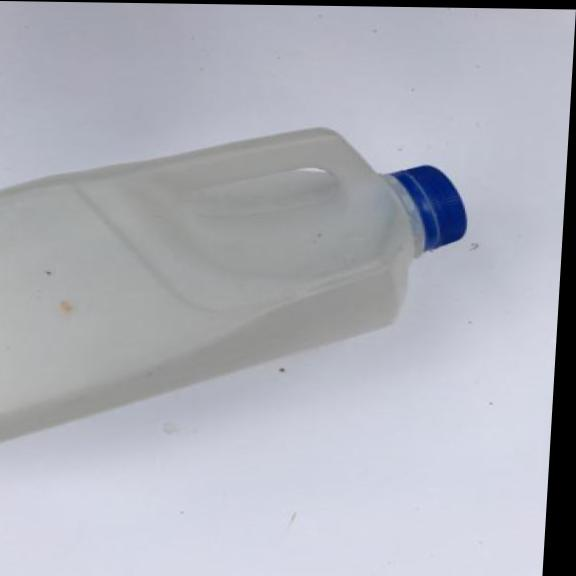Plastik: (0, 122, 476, 457)
